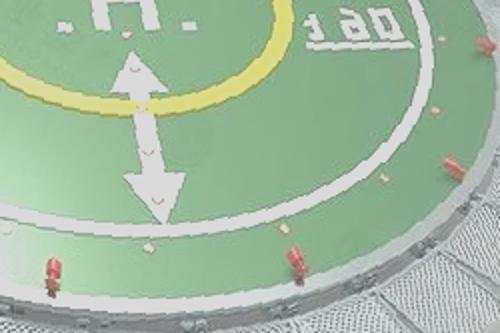Apron: (1, 1, 309, 121)
